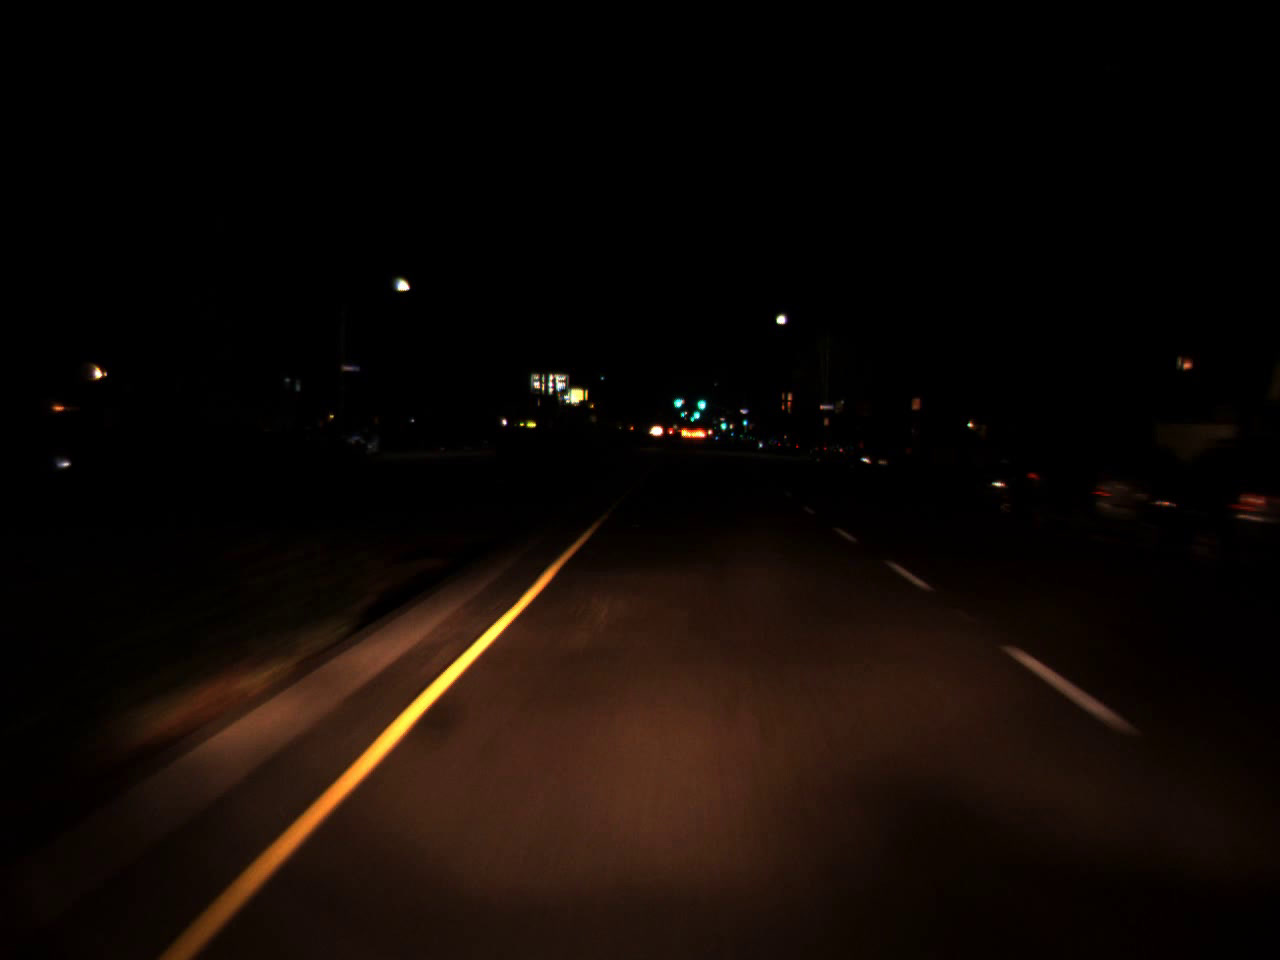go: (686, 397, 702, 427), (694, 390, 706, 411), (671, 389, 681, 410), (718, 416, 727, 431)
